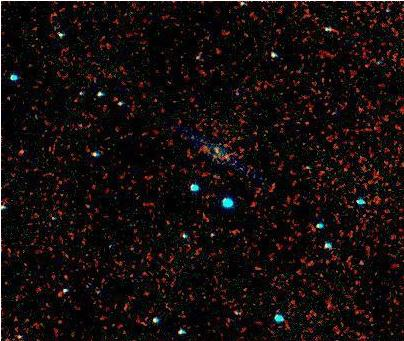star: (212, 141, 242, 171)
